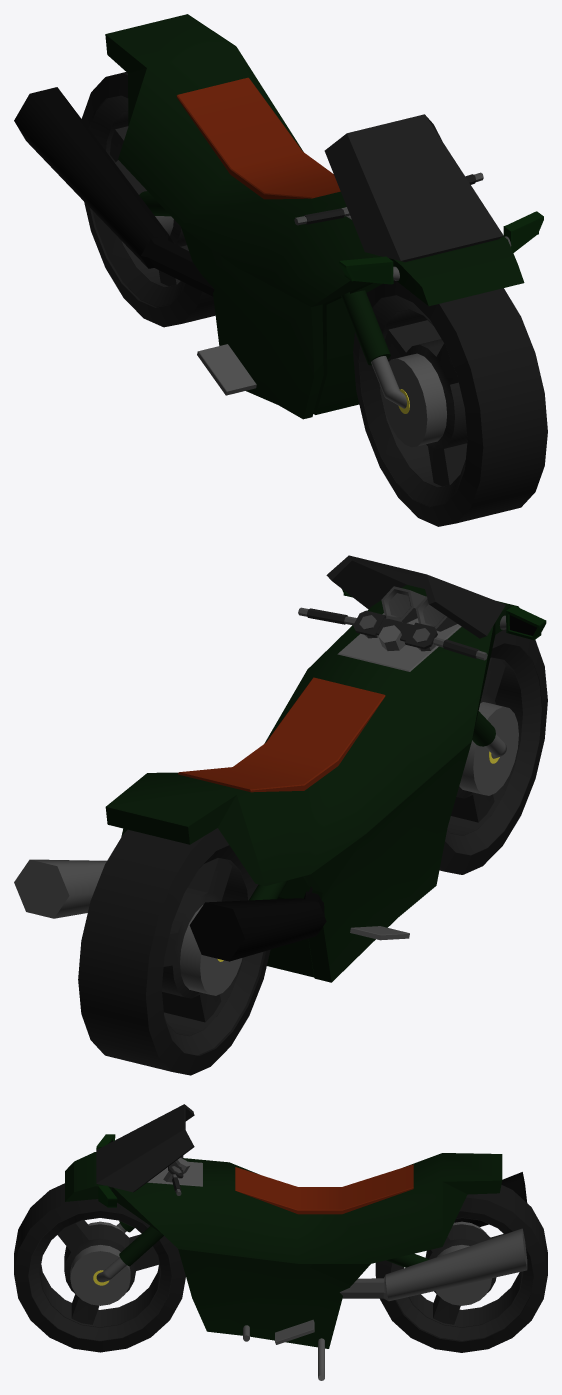
The model's file is MotorBIKE.fbx.
3 views of the same model, one above another, from view 1: azimuth 30°, elevation 25°; view 2: azimuth 150°, elevation 25°; view 3: azimuth 270°, elevation 25° (orthographic). The views are drawn at different scales.
Parts seen in each view (by area): view 1: MotorBIKE; view 2: MotorBIKE; view 3: MotorBIKE.
Boxes of the visible parts, left/top/right/bottom form: MotorBIKE: left=14, top=14, right=547, bottom=526; MotorBIKE: left=14, top=555, right=547, bottom=1075; MotorBIKE: left=14, top=1104, right=547, bottom=1380.
Size of the model in its own units: 181 by 248 by 534.
